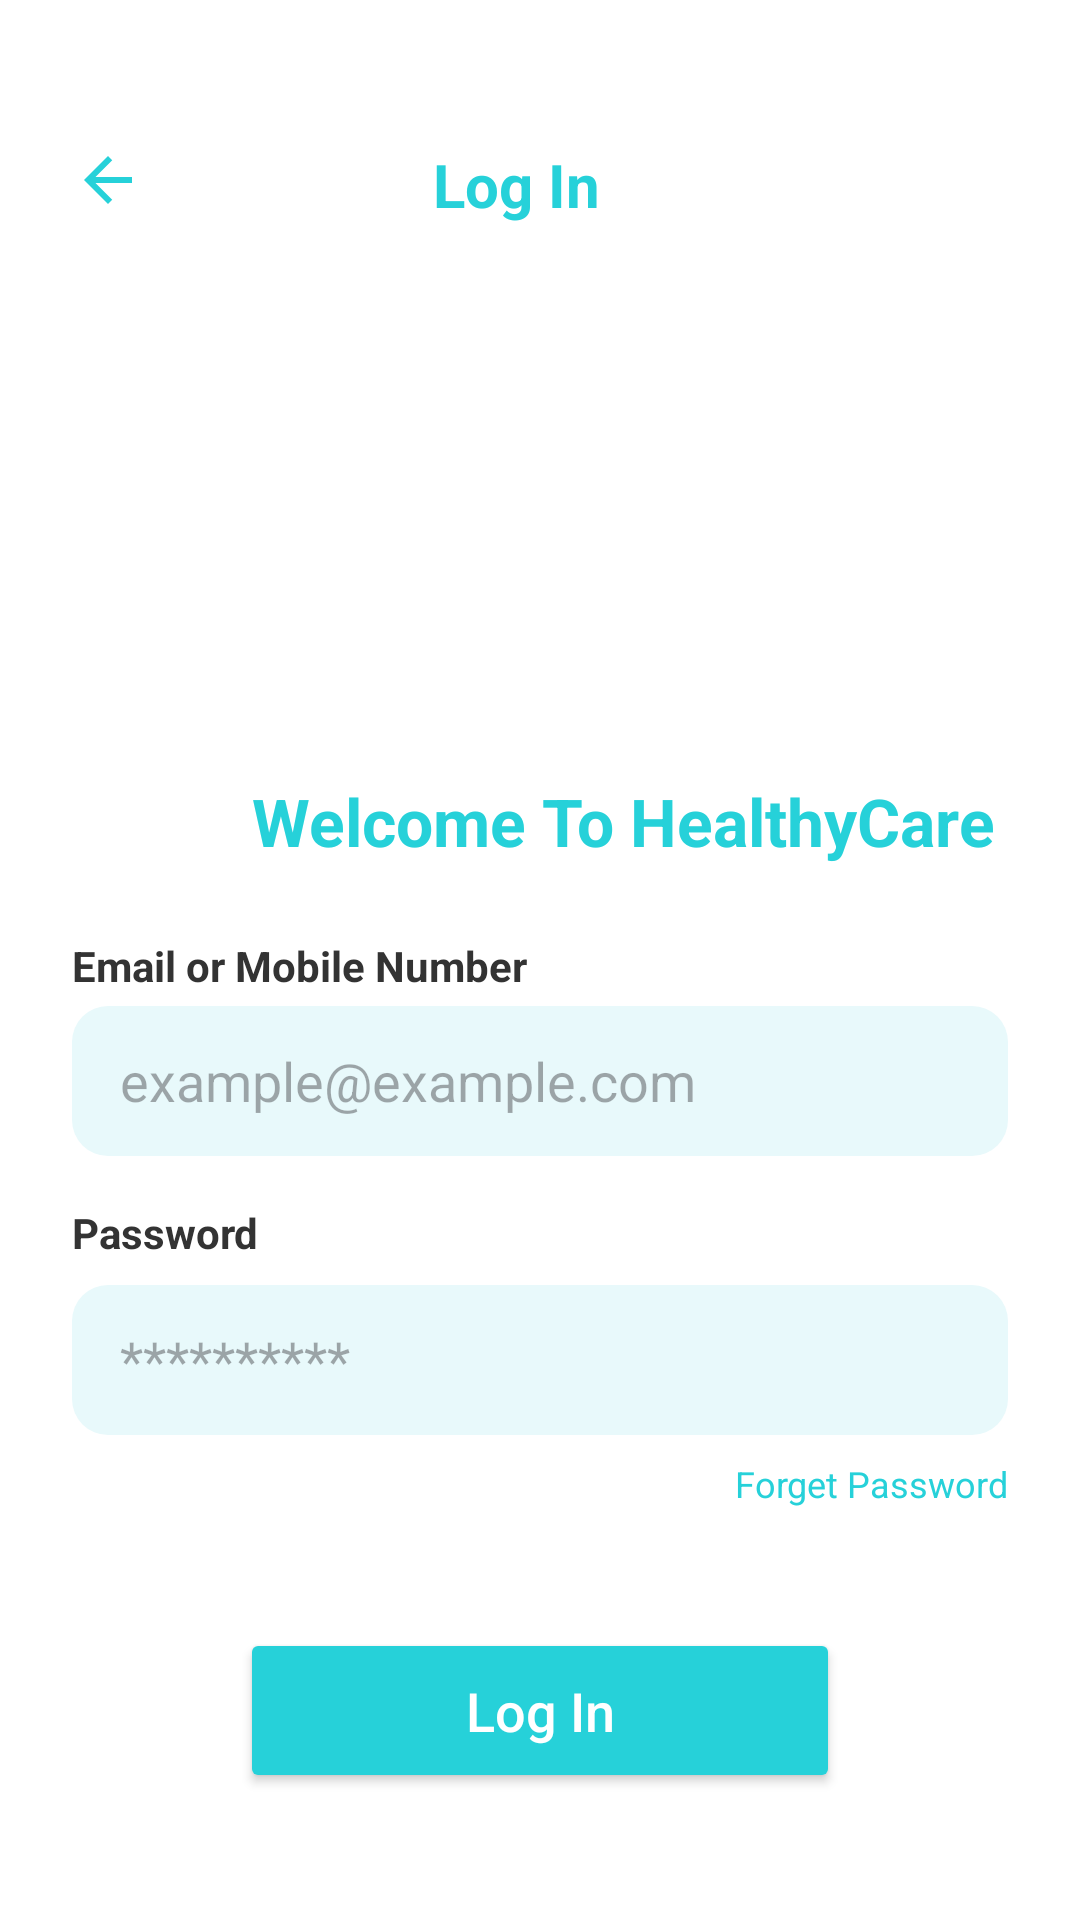

Icon click points for this 1080px x 1920px phone screenshot, format (x,y):
back: (108,180)
